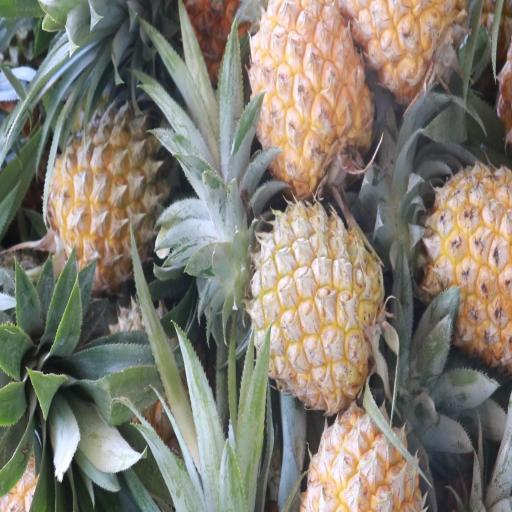------------------------------: (45, 109, 168, 294)
Pineapple - v8 v1: (253, 198, 384, 412), (245, 0, 372, 193), (417, 160, 512, 356), (303, 389, 440, 512)
